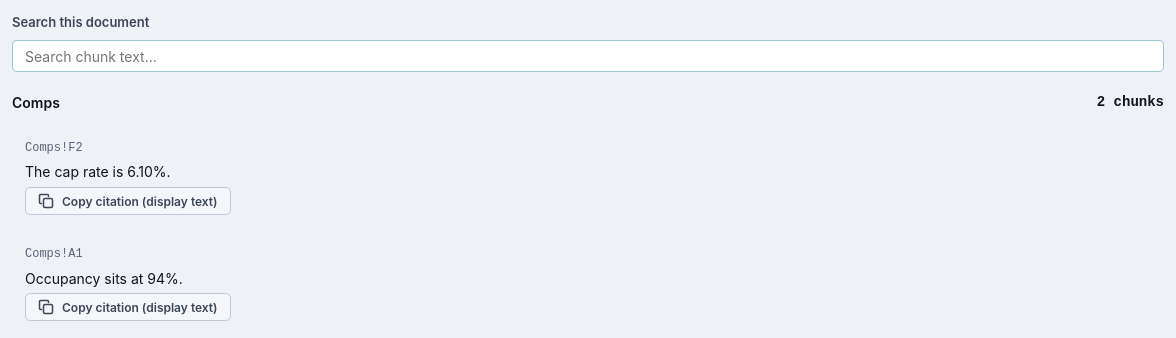
Scenario: EvidenceReader › filters chunks by search text and highlights the match
The image size is (1176, 338).
Type "occupancy" into the search field labelled "Search this document" at (588, 56), box [12,40,1164,72]
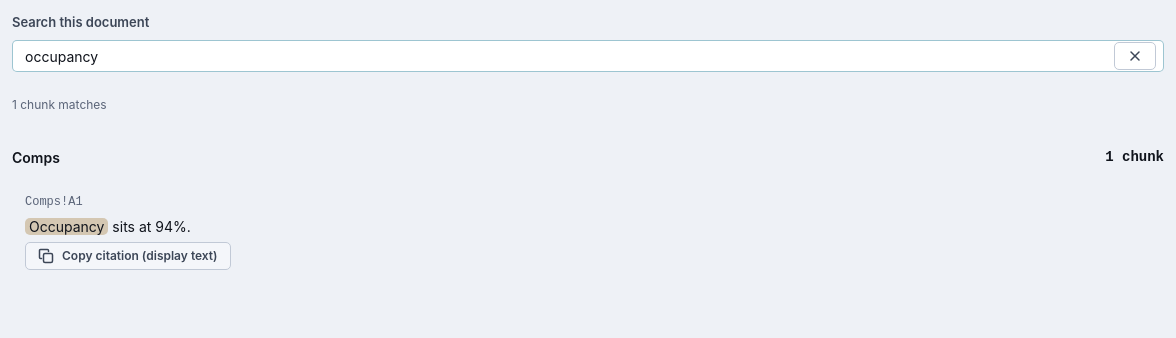
Expected: the text "Occupancy" is shown, [25,218,108,235]
Expected: the text "The cap rate is 6.10%." is gone
